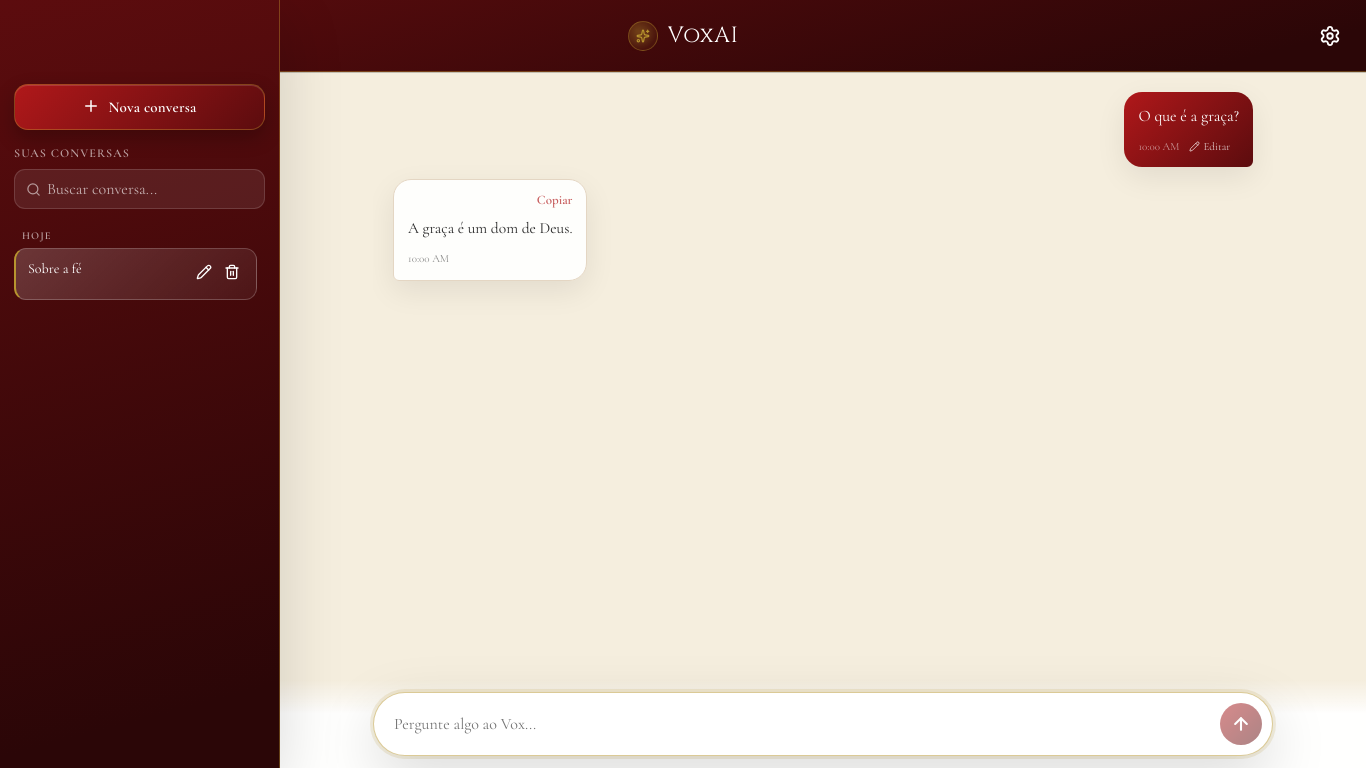
Test: Vox › sends a message and streams the assistant reply
Expected: the text "O que é a graça?" is shown, [1138, 104, 1239, 130]
In the text box named "Digite sua pergunta para o Vox": [797, 725] box [384, 705, 1210, 745], type "Quem é Deus?"
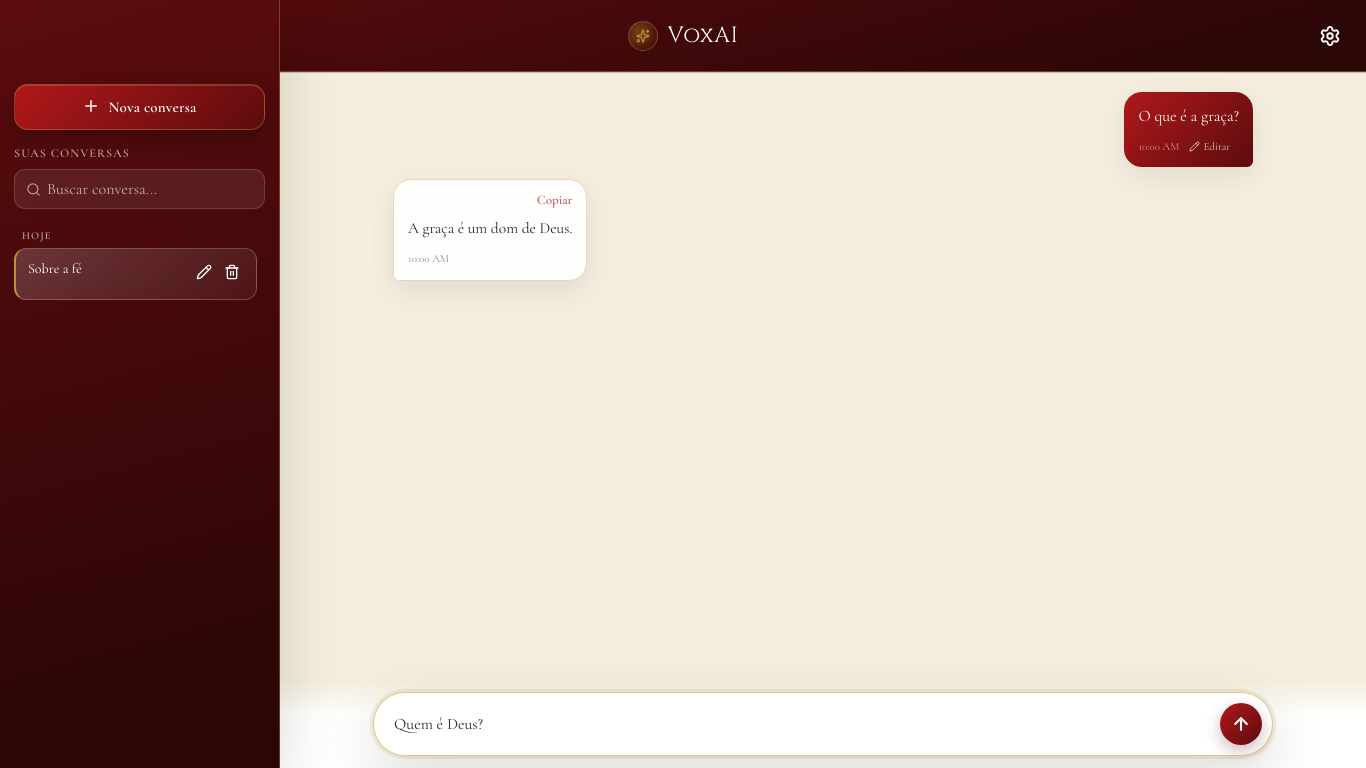
Click the button named "Enviar mensagem": [1241, 724] box [1220, 703, 1262, 745]
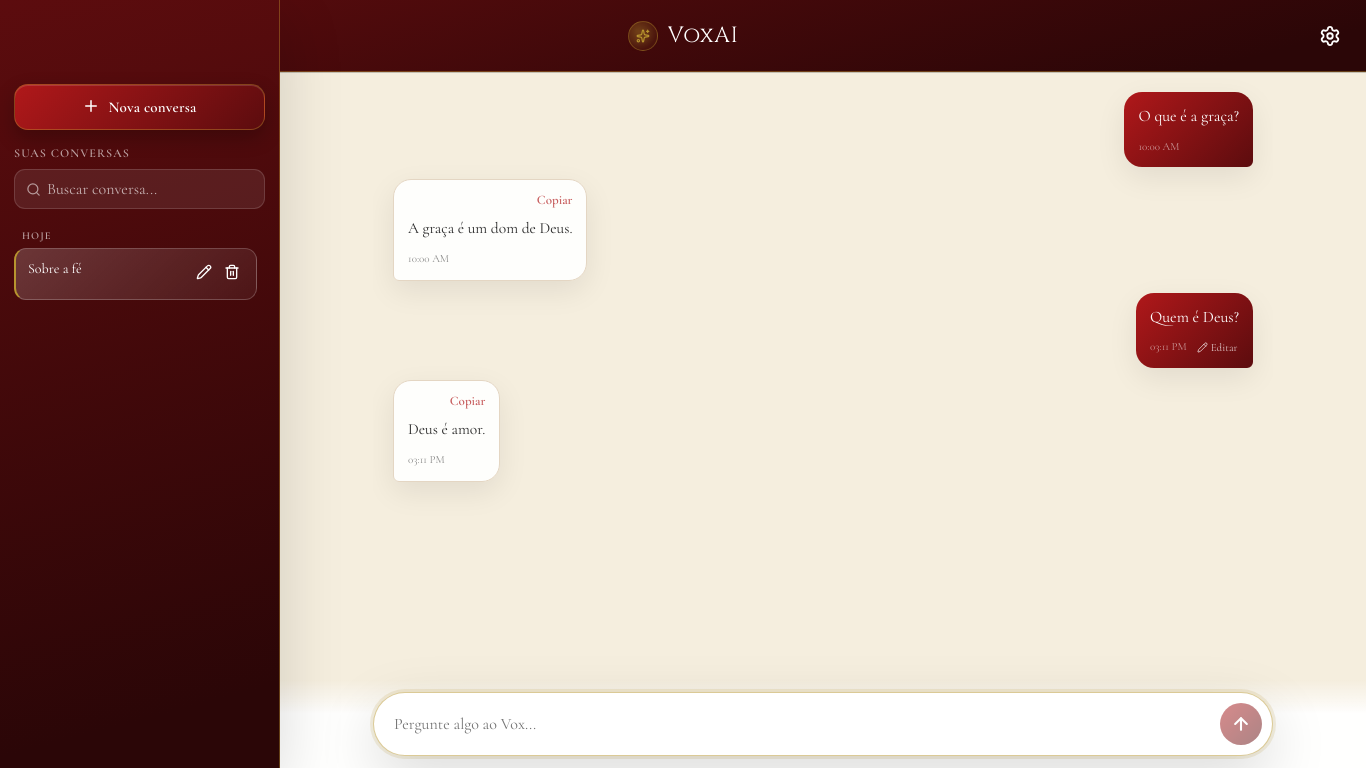
Expected: the text "Deus é amor." is shown, [408, 417, 485, 443]
